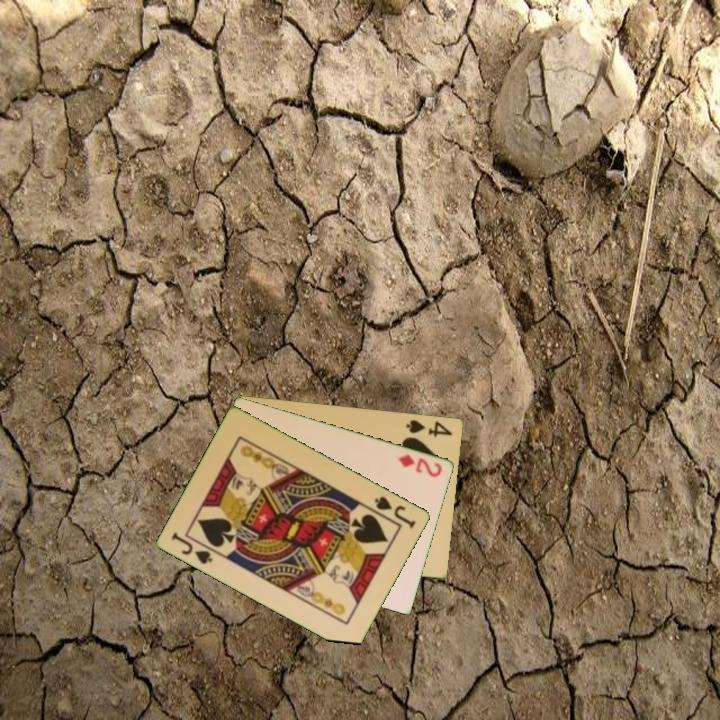2d: (395, 451, 445, 480)
4s: (403, 416, 455, 439)
Js: (371, 492, 419, 531), (168, 528, 216, 567)
